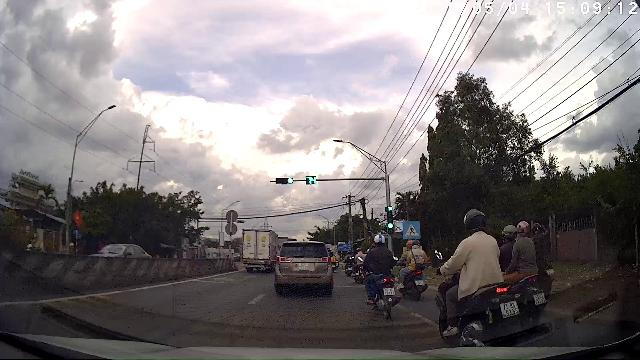423a-duong-nguoi-di-bo-sang-ngang-1: (403, 221, 420, 239)
